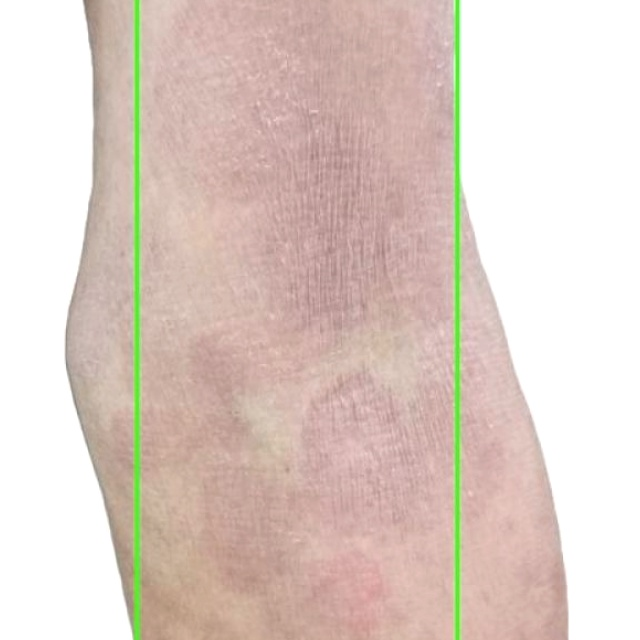Eczema: (456, 0, 639, 639), (0, 0, 137, 639)
